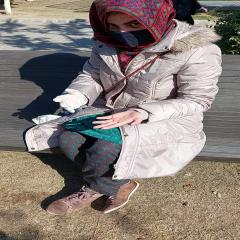gloved: (54, 90, 88, 112)
not-gloved: (92, 110, 140, 130)
